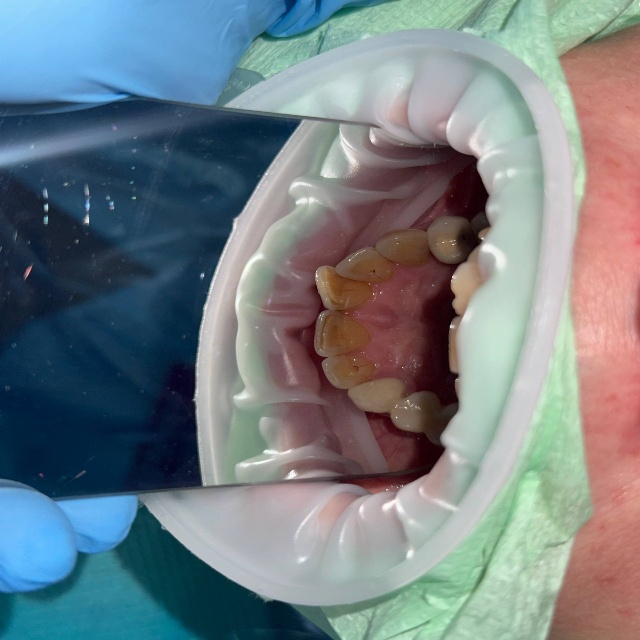clean_tooth: (157, 258, 187, 308), (411, 339, 437, 396)
plaque: (292, 0, 639, 592)
